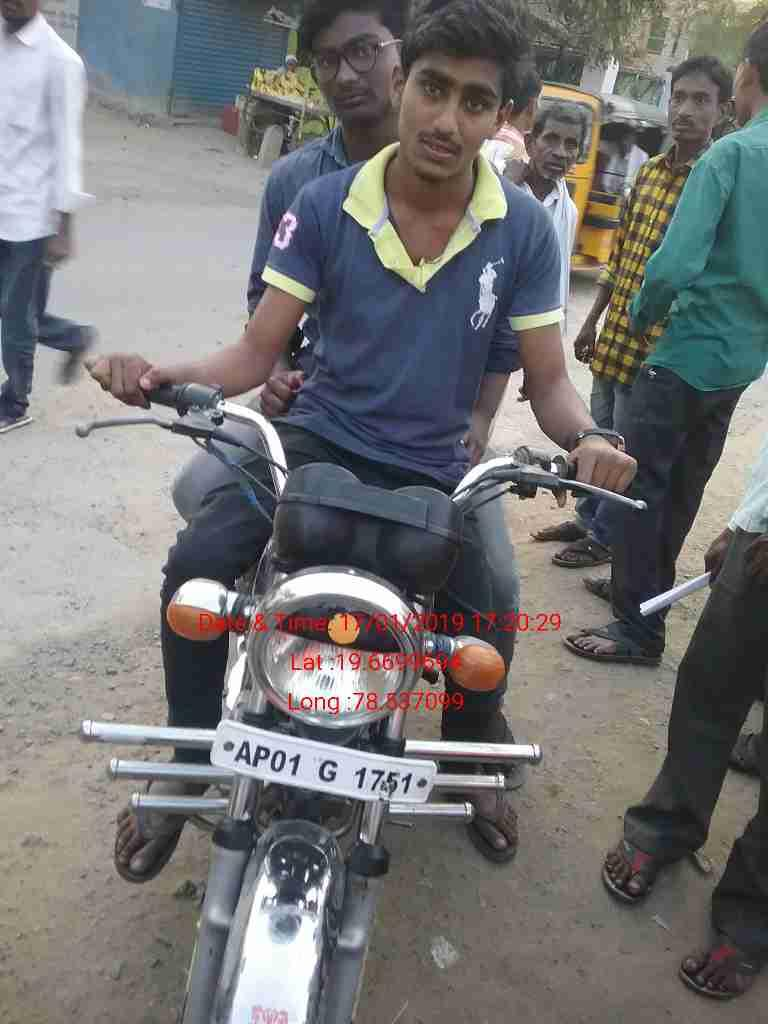plate: (211, 724, 443, 819)
